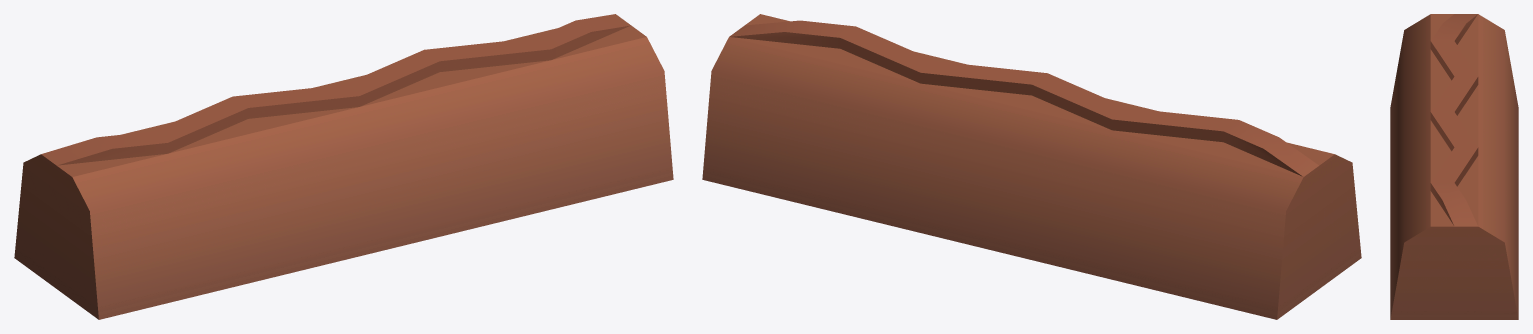
Rendered from candybar.glb.
The picture shows the model from 3 angles, left to right: view 1: azimuth 30°, elevation 25°; view 2: azimuth 150°, elevation 25°; view 3: azimuth 270°, elevation 25°; orthographic projection. The views are drawn at different scales.
Visible parts, largest first — view 1: candy-bar; view 2: candy-bar; view 3: candy-bar.
Boxes of the visible parts, box(x1,y1,x2,y2) form: candy-bar: box(14, 14, 673, 319); candy-bar: box(702, 14, 1361, 319); candy-bar: box(1390, 14, 1518, 319).
Bounding box in the file's own units: 0.14 × 0.0313 × 0.0357.
1 material, 1 textured.
